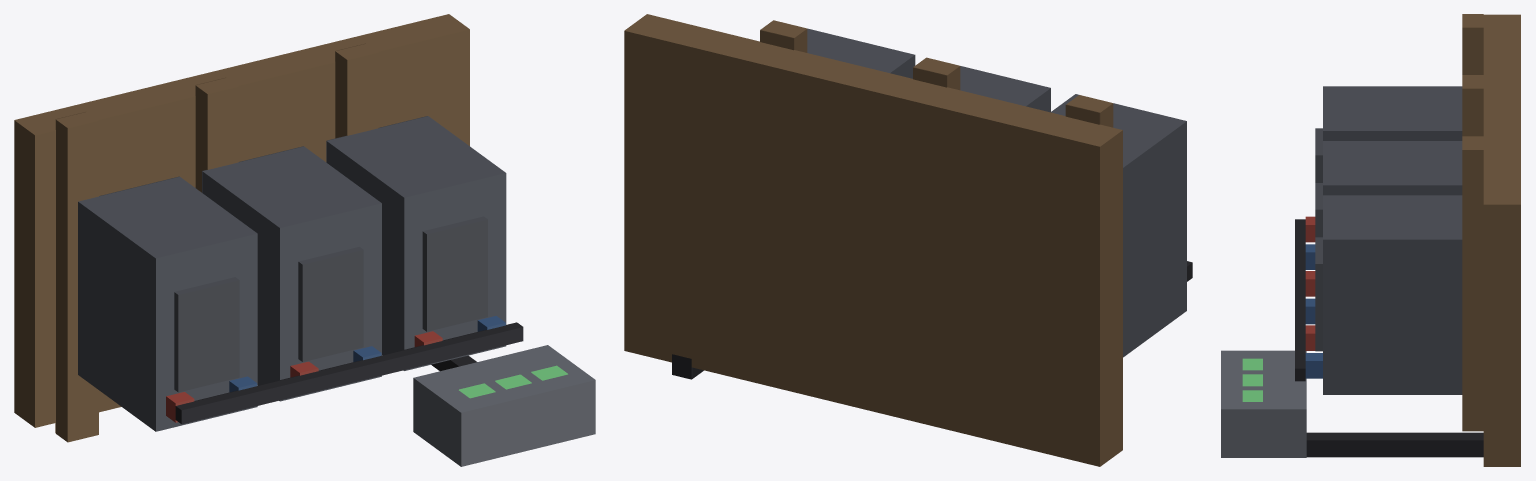
The model's file is bank_ground_makeshift_c3_S.obj.
3 renders of one model, left to right at view 1: azimuth 30°, elevation 25°; view 2: azimuth 150°, elevation 25°; view 3: azimuth 270°, elevation 25°, orthographic. The views are drawn at different scales.
Visible parts, largest first — view 1: bank_ground_makeshift_c3_S; view 2: bank_ground_makeshift_c3_S; view 3: bank_ground_makeshift_c3_S.
Boxes of the visible parts, <box> form: bank_ground_makeshift_c3_S: <box>14,14,595,466</box>; bank_ground_makeshift_c3_S: <box>624,14,1192,466</box>; bank_ground_makeshift_c3_S: <box>1221,14,1520,466</box>.
Size of the model in its own units: 0.84 by 0.58 by 0.5615.
1 material, 1 textured.
